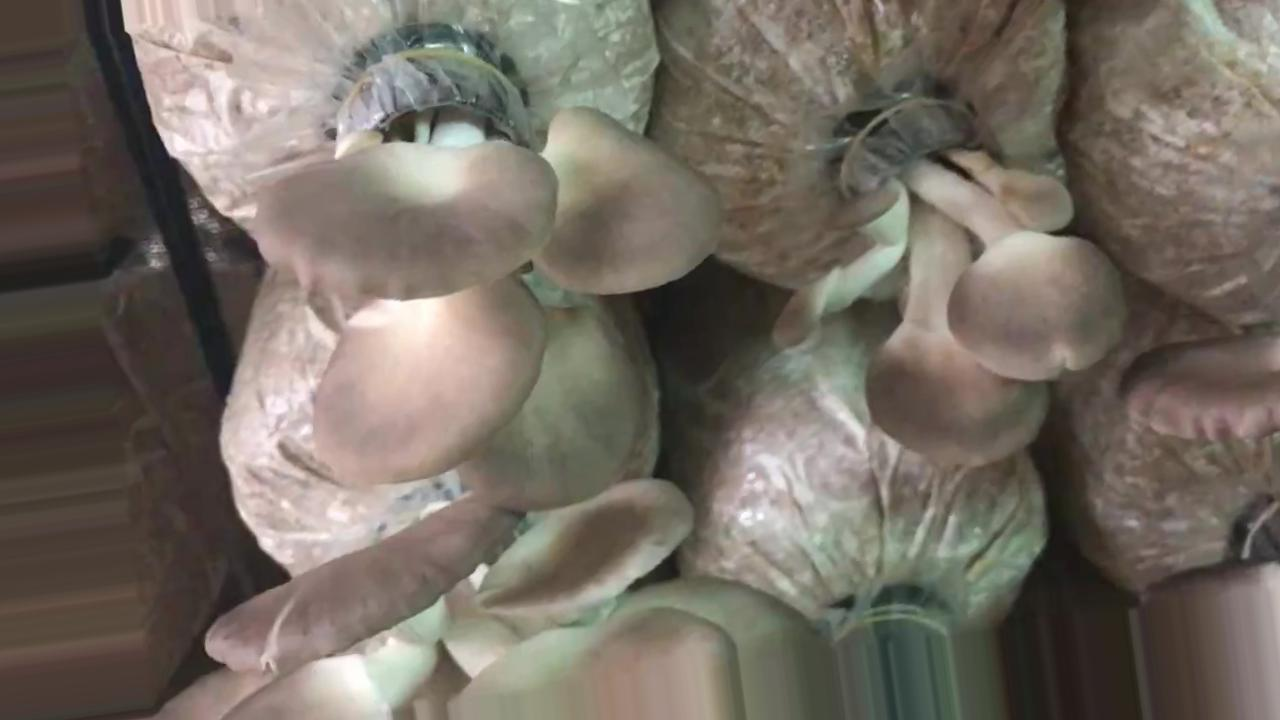nam: (260, 35, 721, 510), (161, 484, 841, 720), (770, 96, 1123, 463), (1124, 334, 1280, 433)
